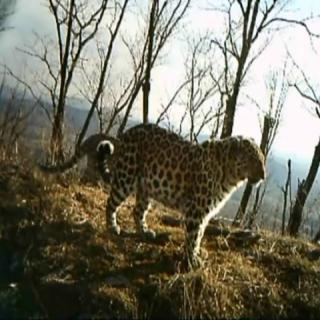Leopard: (105, 102, 262, 277)
